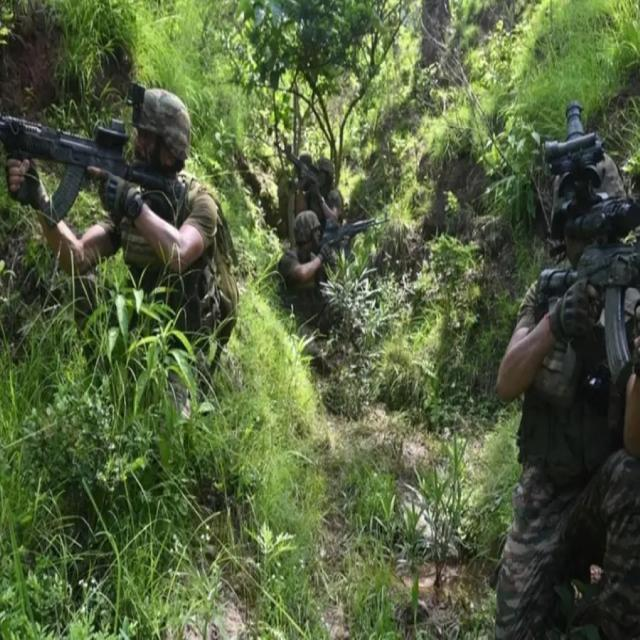Forest: (0, 0, 640, 640)
Militant: (15, 63, 252, 490), (462, 109, 640, 640), (263, 129, 366, 363)
